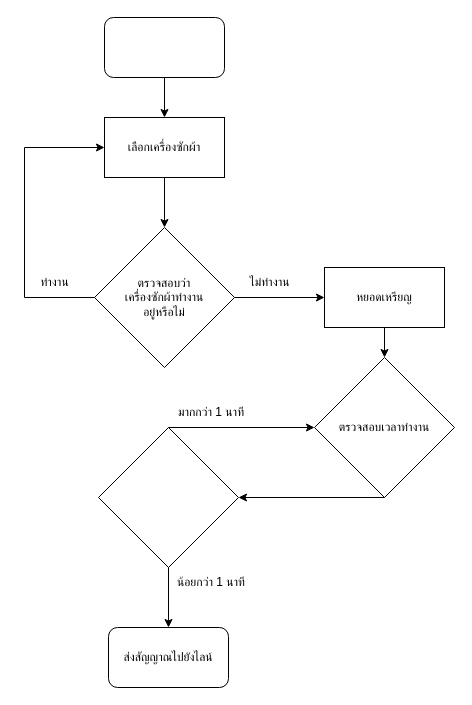
This 472x705 diagram has some shape labels left out. Each missing label, with the centre of its shape:
"เริ่ม" goes at (164,47).
"เวลาเหลือ น้อยกว่า 1 นาที" goes at (168,497).
